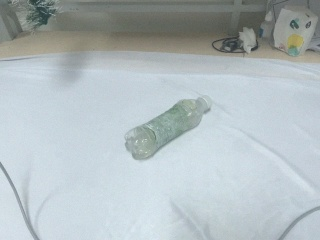bottle: (125, 96, 213, 162)
